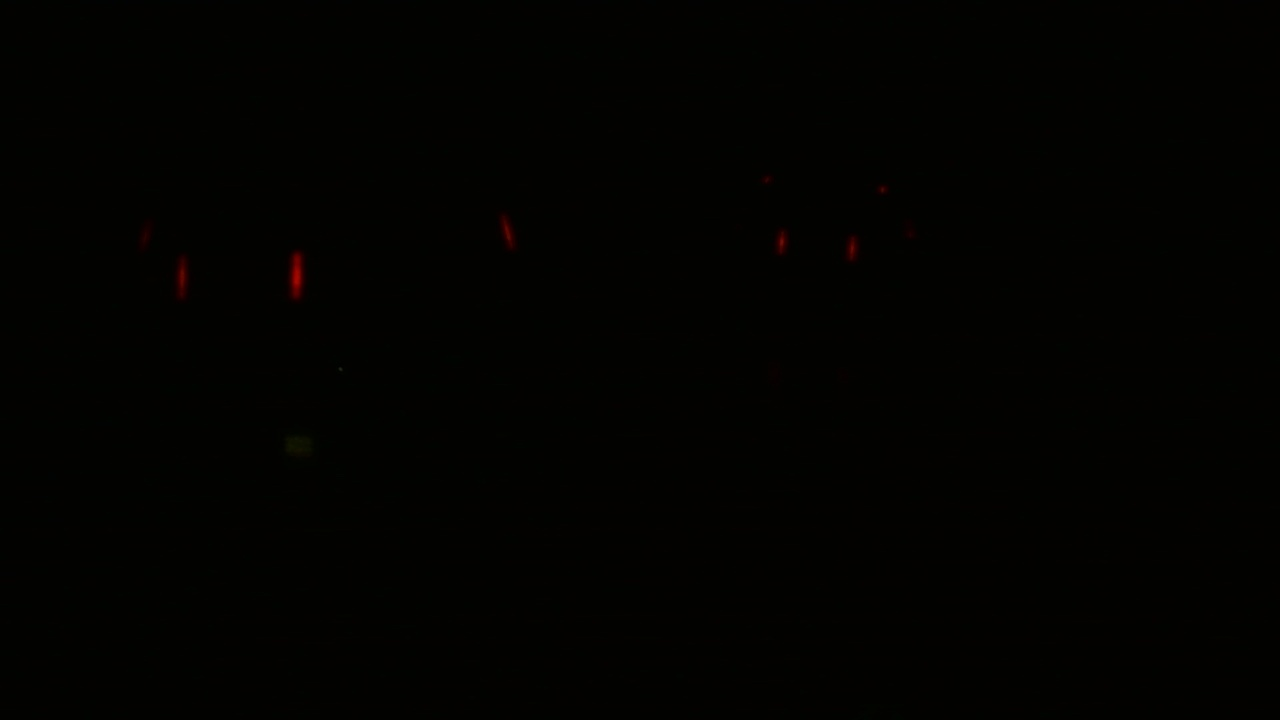pair1: (176, 253, 305, 302), (772, 219, 864, 264)
